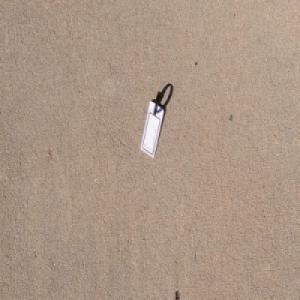LuggageTag: (140, 89, 164, 158)
